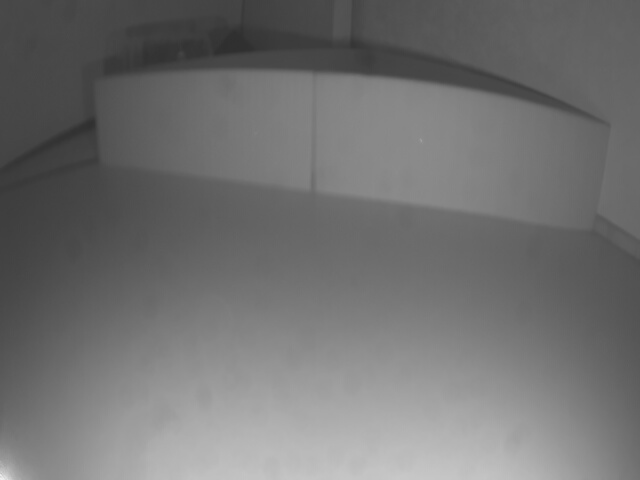Point: (94, 76, 607, 234)
